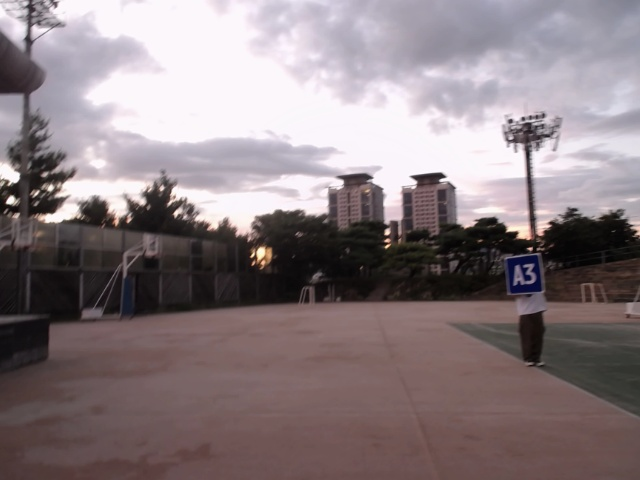delivery_a3: (505, 253, 543, 295)
